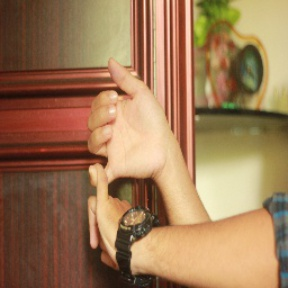S: (71, 53, 178, 274)
